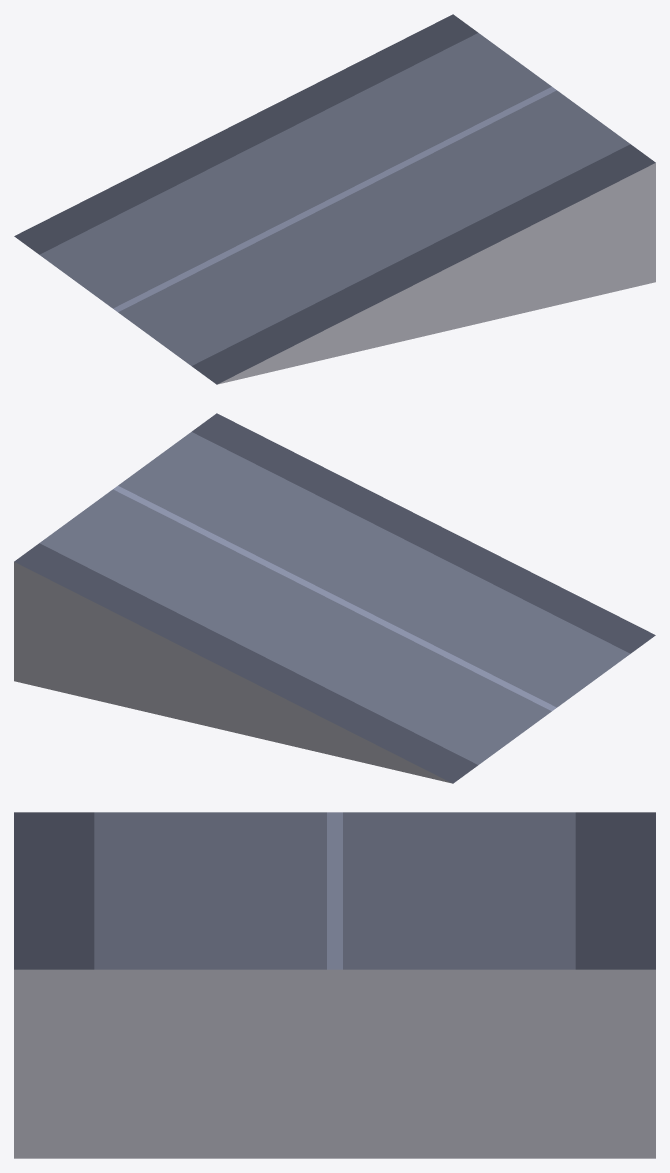
Rendered from road.glb.
3 views of the same model, one above another, from view 1: azimuth 30°, elevation 25°; view 2: azimuth 150°, elevation 25°; view 3: azimuth 270°, elevation 25° (orthographic). The views are drawn at different scales.
Parts seen in each view (by area): view 1: road; view 2: road; view 3: road.
Boxes of the visible parts, x1,y1,x2,y2 form: road: [14, 14, 655, 384]; road: [14, 413, 655, 783]; road: [14, 812, 655, 1158].
Size of what is drawn, in the model's own units: 1 by 0.26 by 0.8.
